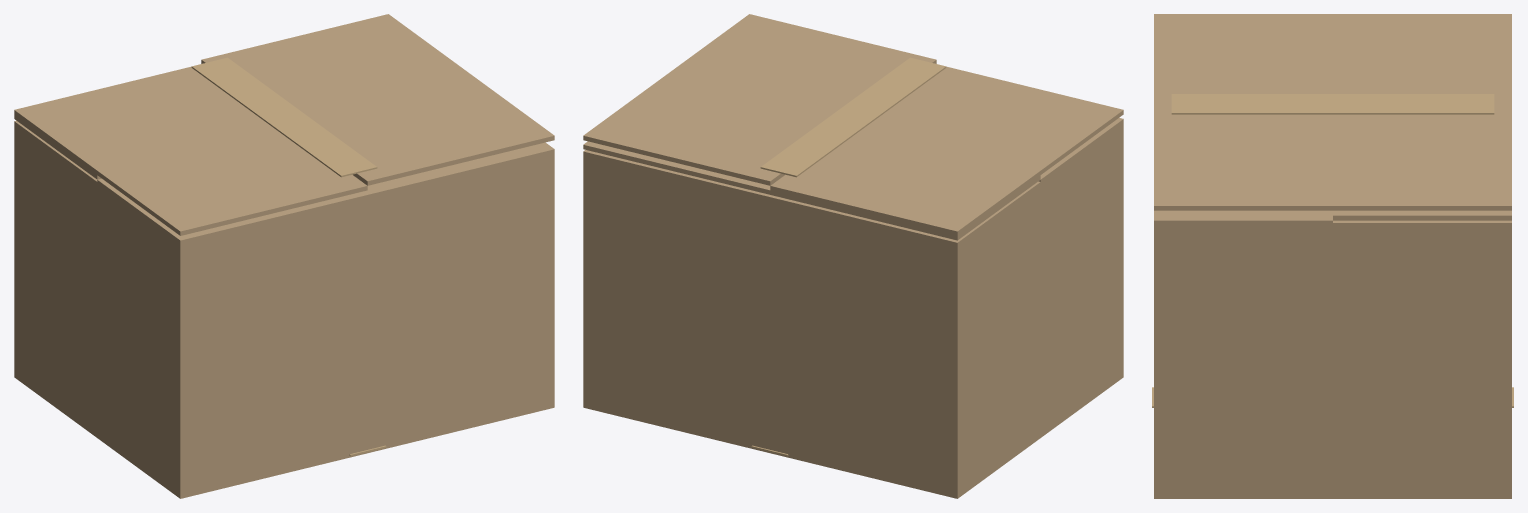
Rendered from open_box.glb.
The picture shows the model from 3 angles, left to right: view 1: azimuth 30°, elevation 25°; view 2: azimuth 150°, elevation 25°; view 3: azimuth 270°, elevation 25°; orthographic projection. The views are drawn at different scales.
Parts seen in each view (by area): view 1: body, flap_l, flap_r, flaptape, flap_f; view 2: body, flap_l, flap_r, flaptape, flap_b, flap_f; view 3: body, flap_r, flap_l, flaptape, flap_f, flap_b.
Part boxes in pixels (left/top/right/bottom): body: left=14, top=120, right=554, bottom=498; flap_l: left=14, top=66, right=367, bottom=235; flap_r: left=201, top=14, right=554, bottom=185; flaptape: left=191, top=57, right=377, bottom=177; flap_f: left=97, top=142, right=554, bottom=244; body: left=583, top=121, right=1123, bottom=498; flap_l: left=770, top=66, right=1123, bottom=235; flap_r: left=583, top=14, right=936, bottom=185; flaptape: left=760, top=57, right=946, bottom=177; flap_b: left=583, top=141, right=1040, bottom=240; flap_f: left=1038, top=118, right=1123, bottom=181; body: left=1152, top=220, right=1513, bottom=498; flap_r: left=1154, top=107, right=1511, bottom=210; flap_l: left=1154, top=14, right=1511, bottom=107; flaptape: left=1171, top=94, right=1494, bottom=114; flap_f: left=1154, top=210, right=1332, bottom=225; flap_b: left=1333, top=210, right=1511, bottom=220.
Size of the model in its own units: 0.52 by 0.366 by 0.404.
